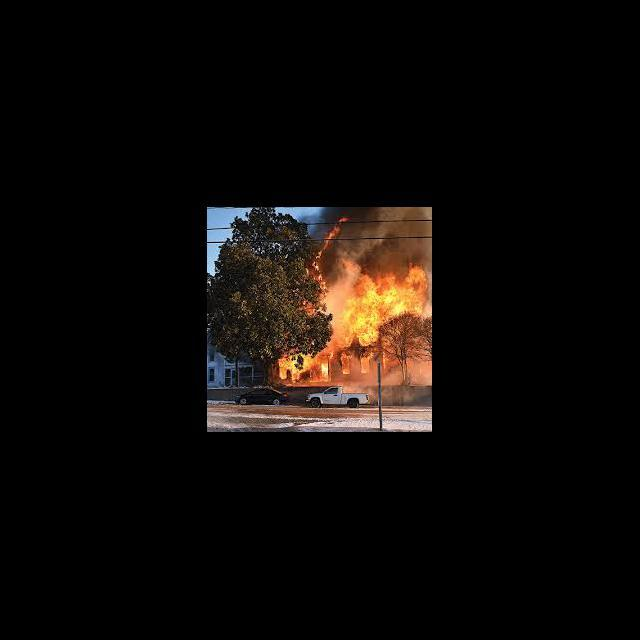Fire: (342, 262, 429, 346), (301, 218, 349, 316), (279, 351, 305, 382), (309, 354, 330, 381), (408, 351, 432, 374), (382, 349, 402, 374), (358, 350, 374, 374), (341, 352, 352, 377)
